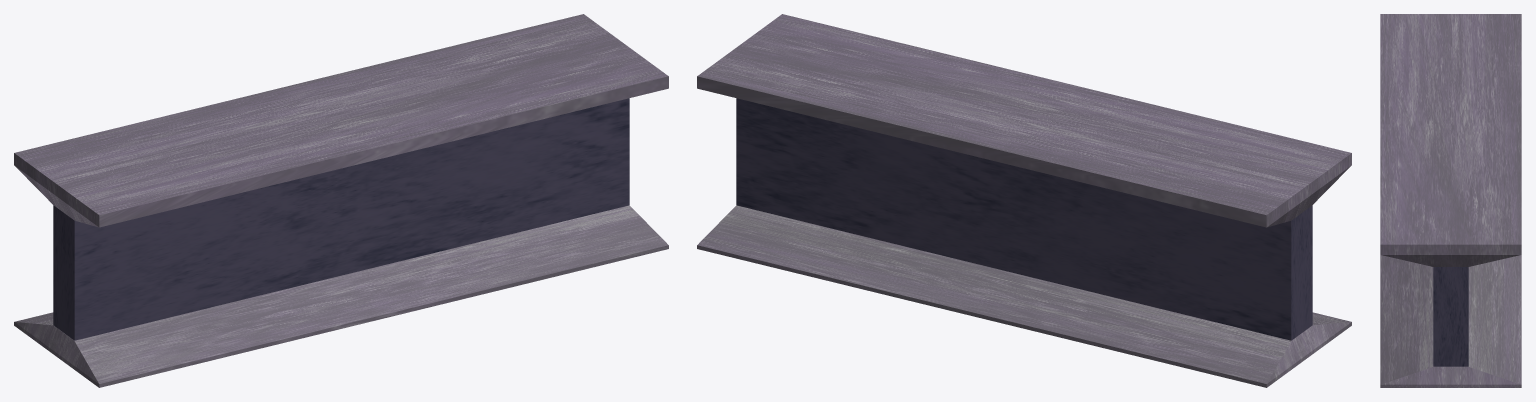
The model's file is Plataforma_1.fbx.
The picture shows the model from 3 angles, left to right: view 1: azimuth 30°, elevation 25°; view 2: azimuth 150°, elevation 25°; view 3: azimuth 270°, elevation 25°; orthographic projection. The views are drawn at different scales.
Visible parts, largest first — view 1: Cube; view 2: Cube; view 3: Cube.
Part boxes in pixels (x1,y1,x2,y2): Cube: [14, 14, 668, 387]; Cube: [697, 14, 1351, 387]; Cube: [1380, 14, 1521, 387].
Size of the model in its own units: 202 by 58.66 by 52.39.
1 material, 1 textured.
